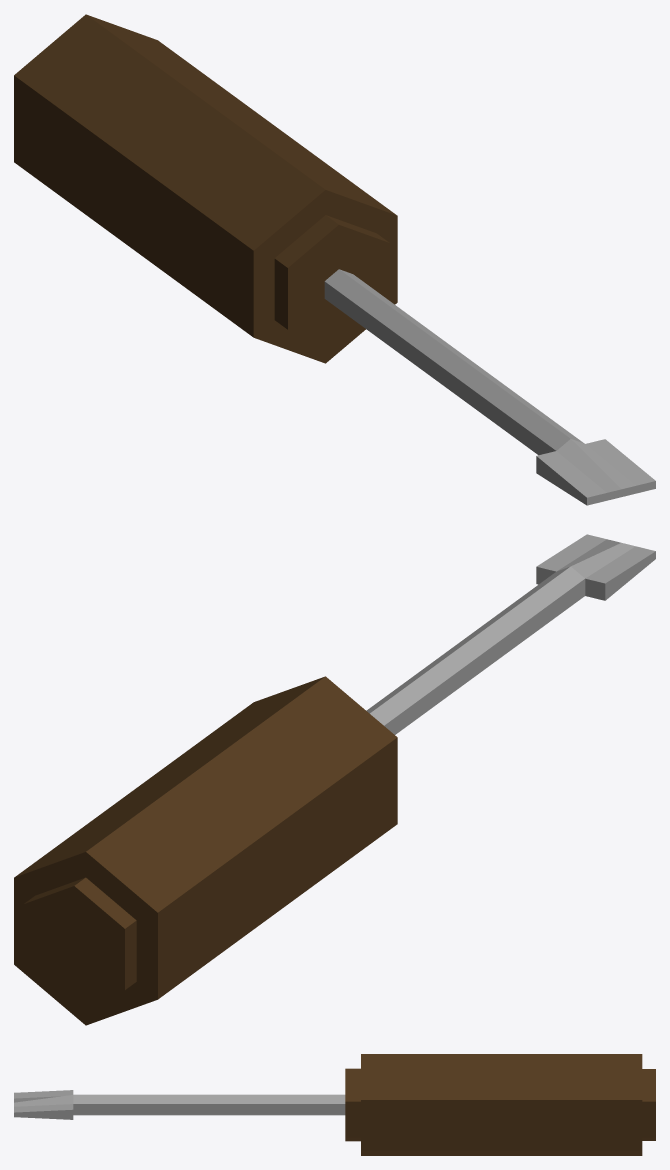
The model's file is schraubendreherGLTF.gltf.
The picture shows the model from 3 angles, top to bottom: view 1: azimuth 30°, elevation 25°; view 2: azimuth 150°, elevation 25°; view 3: azimuth 270°, elevation 25°; orthographic projection. The views are drawn at different scales.
Parts seen in each view (by area): view 1: Cylinder, Cylinder.001; view 2: Cylinder, Cylinder.001; view 3: Cylinder, Cylinder.001.
Boxes of the visible parts, x1,y1,x2,y2 form: Cylinder: (14,14,397,363); Cylinder.001: (324,269,655,505); Cylinder: (14,676,397,1025); Cylinder.001: (366,534,655,734); Cylinder: (345,1054,655,1155); Cylinder.001: (14,1090,345,1119).
Size of the model in its own units: 1.73 by 2 by 11.41.
